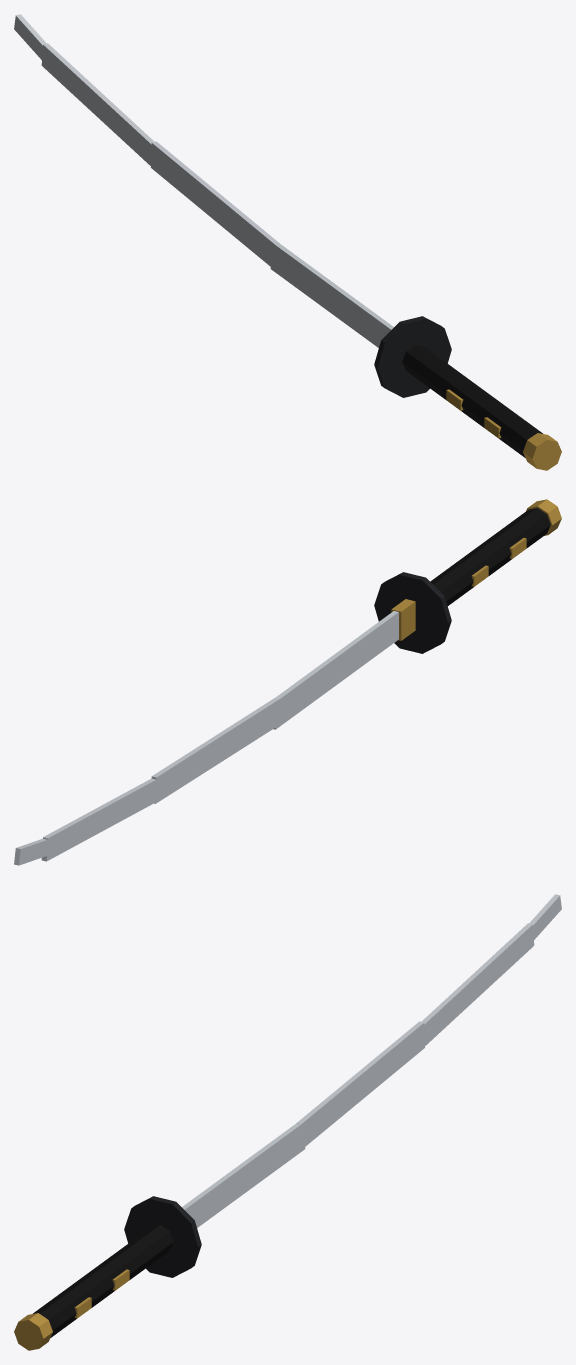
File: katana.glb
3 renders of one model, top to bottom at view 1: azimuth 30°, elevation 25°; view 2: azimuth 150°, elevation 25°; view 3: azimuth 330°, elevation 25°, orthographic.
Parts seen in each view (by area): view 1: katana; view 2: katana; view 3: katana.
Part boxes in pixels (x1,y1,x2,y2): katana: [14, 14, 561, 470]; katana: [14, 499, 561, 865]; katana: [14, 894, 561, 1350].
Size of the model in its own units: 0.09 by 0.1049 by 1.12.
